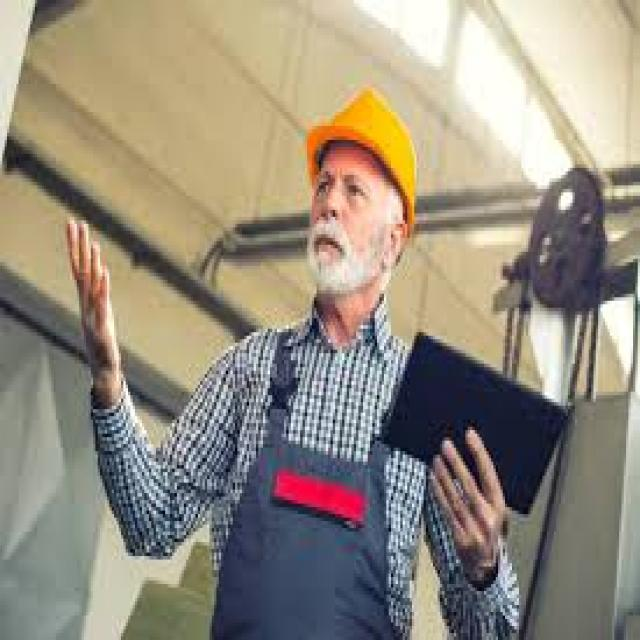Reflective-Jacket: (0, 154, 126, 636)
Safety-Helmet: (291, 77, 435, 241)
